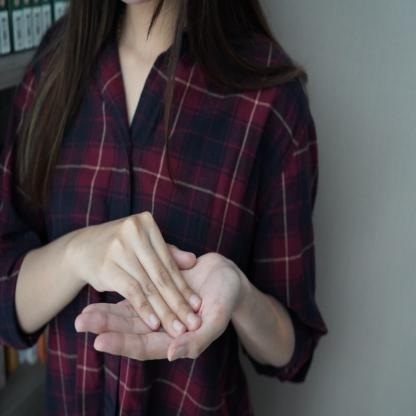Love: (53, 208, 273, 370)
